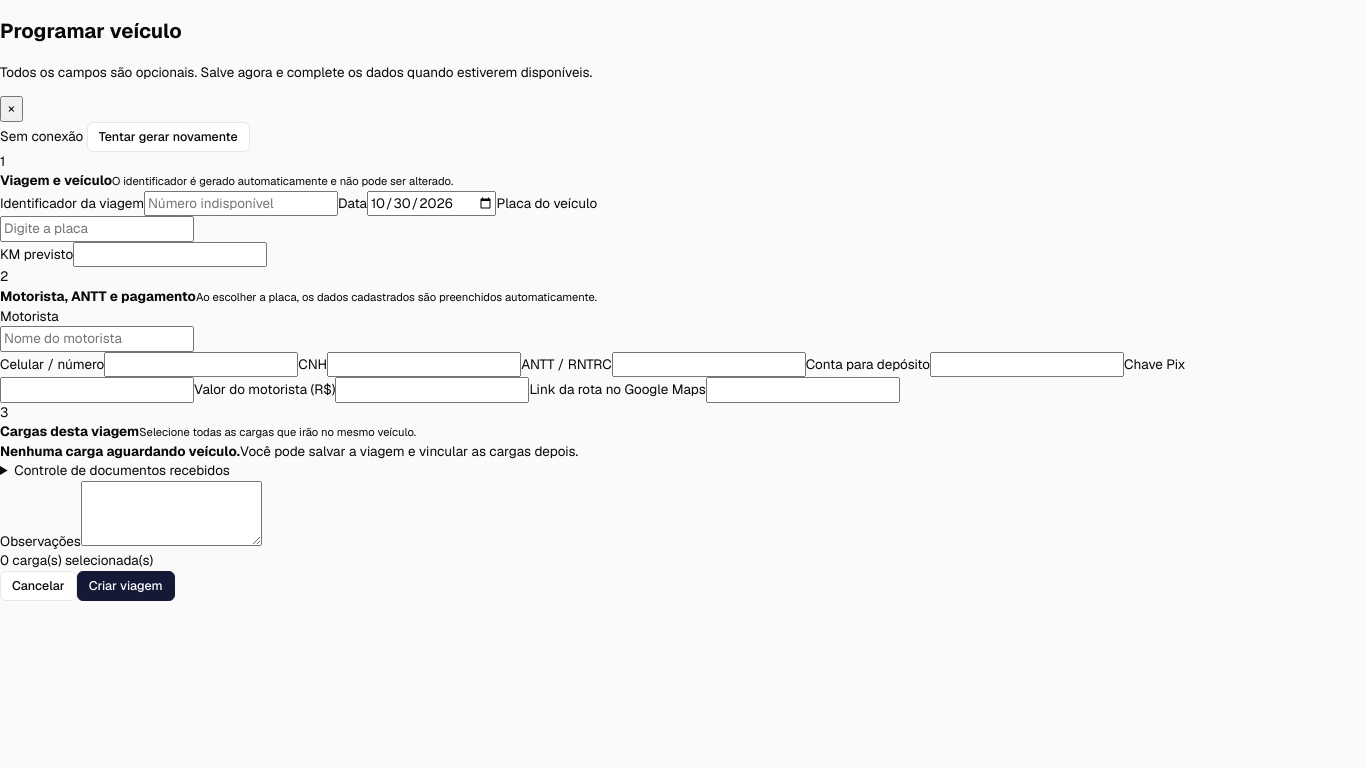
Test: reserva de viagem com falha bloqueia salvar e permite tentar novamente
Check: the text "Sem conexão" is shown, box [0,126,83,144]
Check: the button "Criar viagem" is disabled, box [77,571,175,601]
What coordinates should you click on to do the following:
click the button "Tentar gerar novamente"
I would click on:
 (168, 137)
Its box is [87,122,250,152].
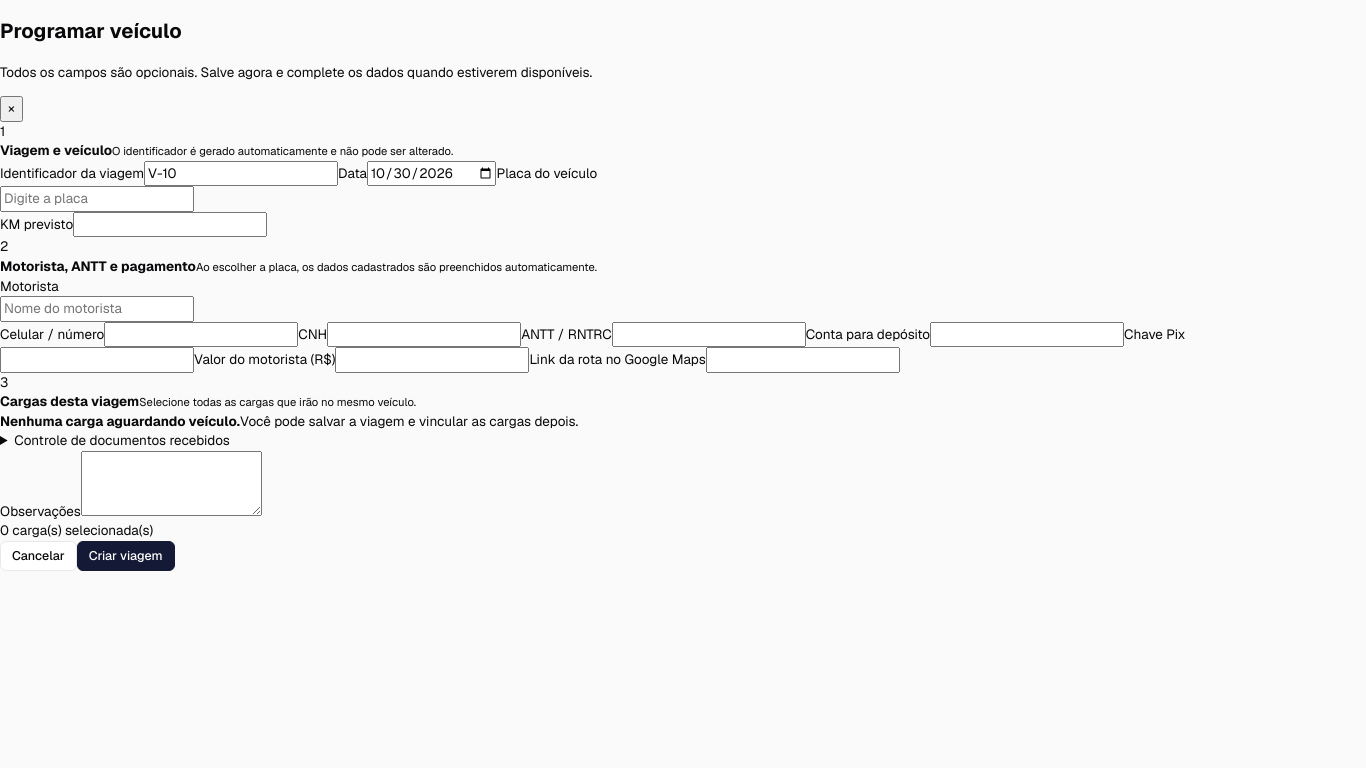
Check: the button "Criar viagem" is enabled, box [77,541,175,571]
Check: the field labelled "Identificador da viagem" holds "V-10", box [144,161,338,186]
